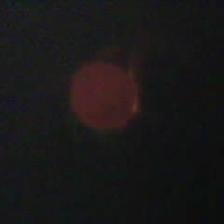fertile: (65, 58, 143, 136)
